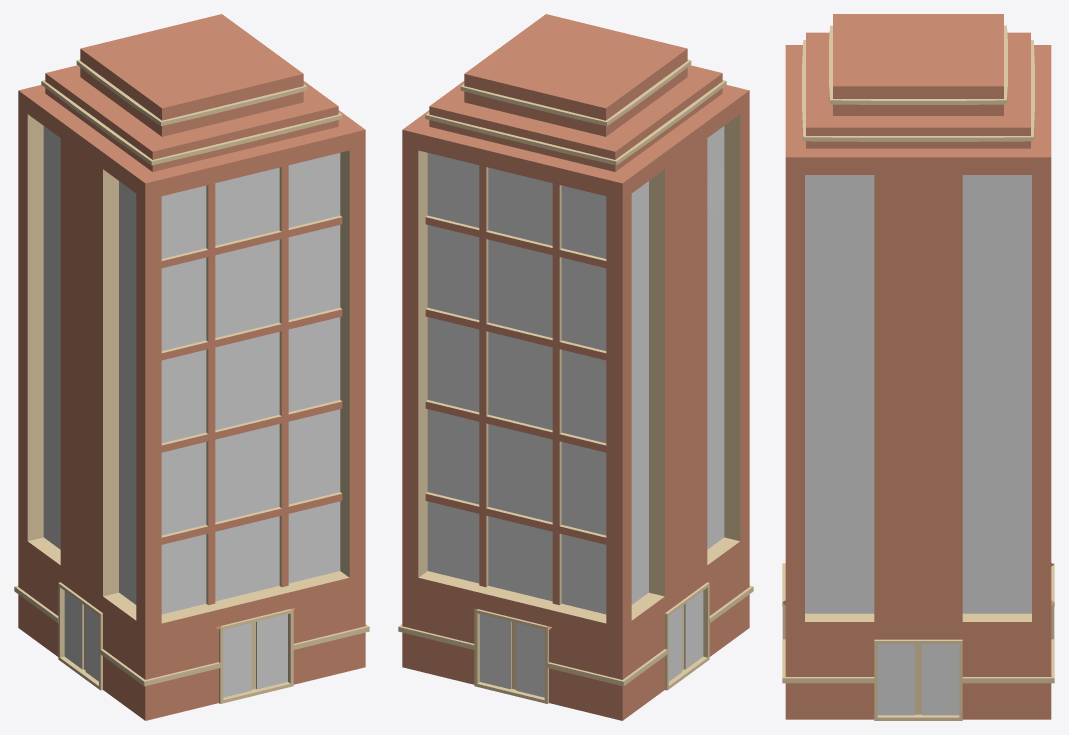
Rendered from cb-apartment-F.fbx.
The picture shows the model from 3 angles, left to right: view 1: azimuth 30°, elevation 25°; view 2: azimuth 150°, elevation 25°; view 3: azimuth 270°, elevation 25°; orthographic projection. The views are drawn at different scales.
Visible parts, largest first — view 1: cb-apartment-F; view 2: cb-apartment-F; view 3: cb-apartment-F.
Part boxes in pixels (box(x1,y1,x2,y2)): cb-apartment-F: box(14, 14, 369, 720); cb-apartment-F: box(398, 14, 753, 720); cb-apartment-F: box(782, 14, 1054, 720).
Bounding box in the file's own units: 7.4 × 18.39 × 7.4.
